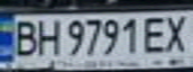1: (118, 15, 142, 55)
7: (81, 16, 103, 56)
9: (63, 16, 87, 56), (100, 16, 124, 56)
B: (9, 17, 42, 57)
E: (139, 13, 172, 55)
H: (33, 16, 63, 56)
X: (160, 11, 193, 53)
